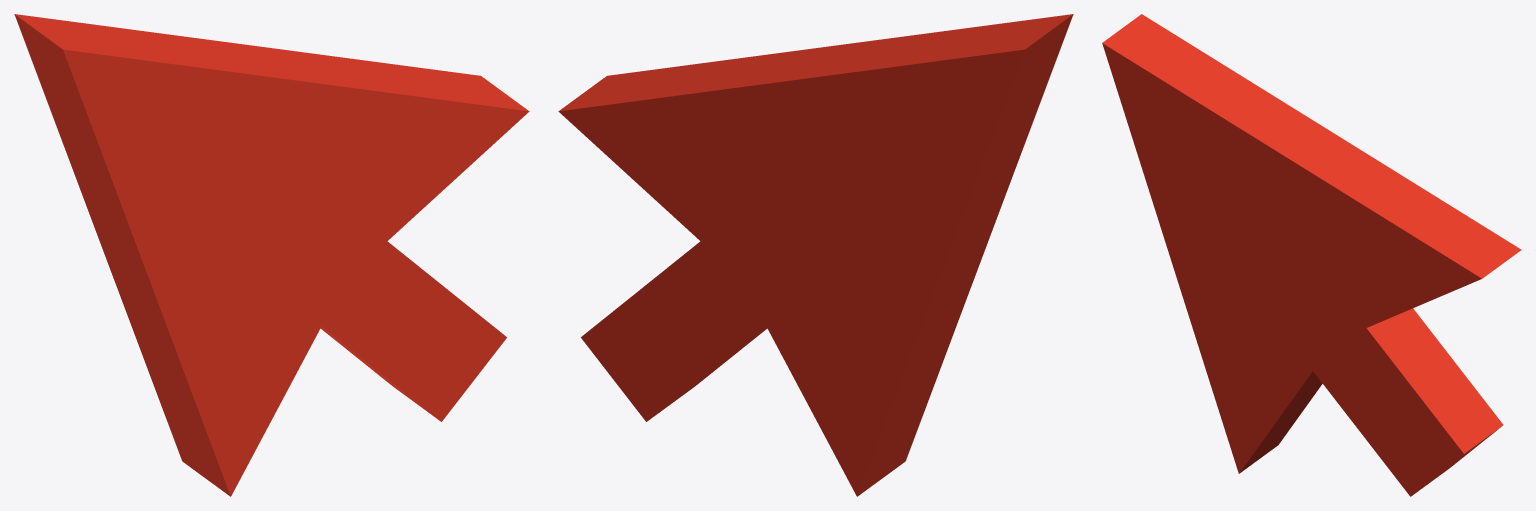
Rendered from Icon_Cursor.fbx.
3 views of the same model, side by side, from view 1: azimuth 30°, elevation 25°; view 2: azimuth 150°, elevation 25°; view 3: azimuth 330°, elevation 25° (orthographic). The views are drawn at different scales.
Parts seen in each view (by area): view 1: Icon_Cursor; view 2: Icon_Cursor; view 3: Icon_Cursor.
Boxes of the visible parts, box(x1,y1,x2,y2) form: Icon_Cursor: box(14, 14, 529, 496); Icon_Cursor: box(558, 14, 1073, 496); Icon_Cursor: box(1102, 14, 1521, 496).
Bounding box in the file's own units: 66.88 × 66.88 × 12.06.
